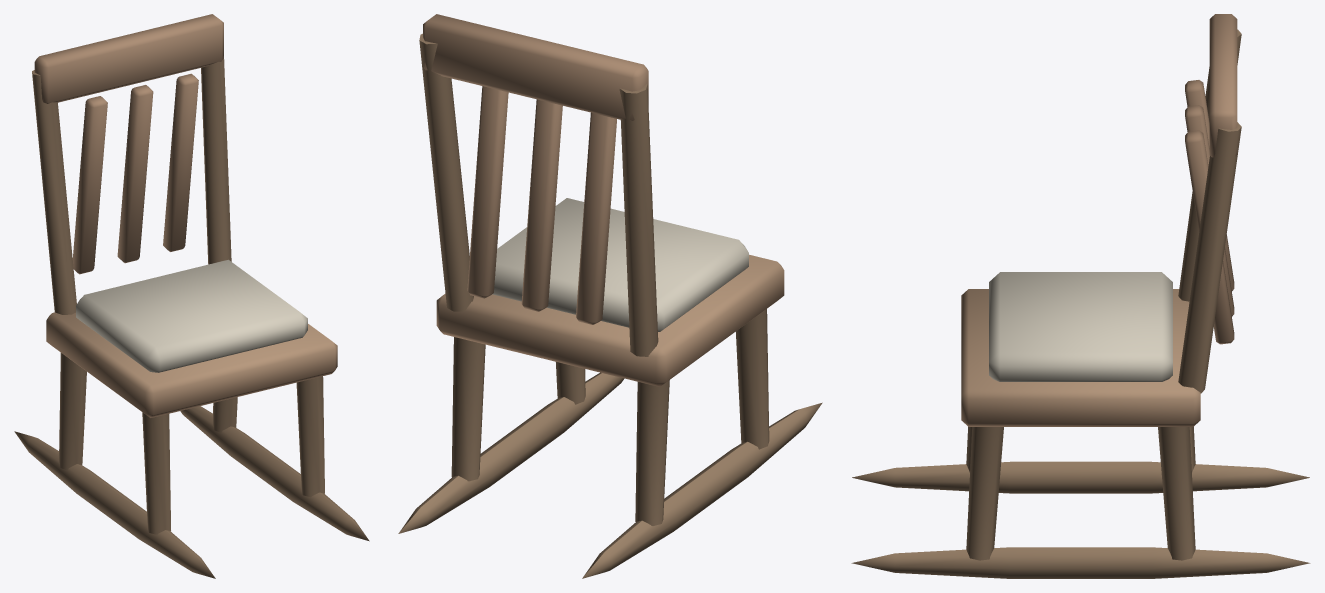
Rendered from rocking_chair.glb.
The picture shows the model from 3 angles, left to right: view 1: azimuth 30°, elevation 25°; view 2: azimuth 150°, elevation 25°; view 3: azimuth 270°, elevation 25°; orthographic projection. The views are drawn at different scales.
Parts seen in each view (by area): view 1: rocking_chair; view 2: rocking_chair; view 3: rocking_chair.
Part boxes in pixels (left/top/right/bottom): rocking_chair: left=14, top=14, right=369, bottom=578; rocking_chair: left=398, top=14, right=822, bottom=578; rocking_chair: left=851, top=14, right=1310, bottom=578.
Bounding box in the file's own units: 0.55 × 1.14 × 1.
